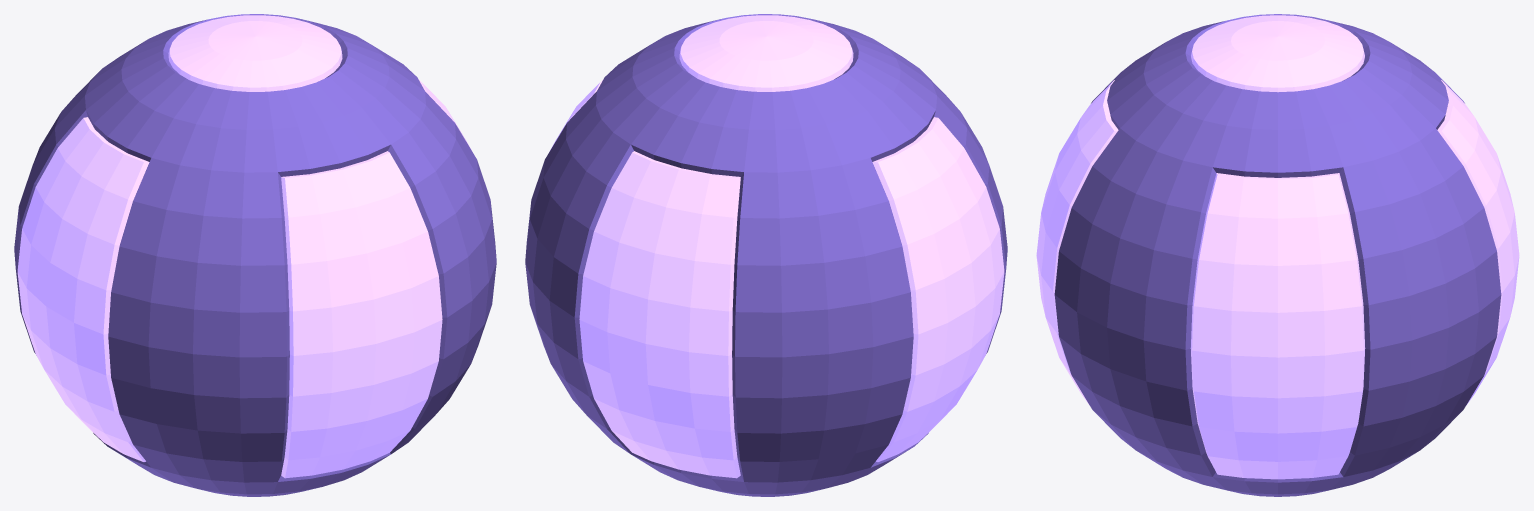
File: Ball.fbx
3 renders of one model, left to right at view 1: azimuth 30°, elevation 25°; view 2: azimuth 150°, elevation 25°; view 3: azimuth 270°, elevation 25°, orthographic.
Visible parts, largest first — view 1: Sphere; view 2: Sphere; view 3: Sphere.
Part boxes in pixels (x1=…): Sphere: x1=14, y1=14, x2=496, y2=496; Sphere: x1=525, y1=14, x2=1007, y2=496; Sphere: x1=1036, y1=14, x2=1519, y2=496.
Size of the model in its own units: 9.99 by 9.99 by 9.99.
